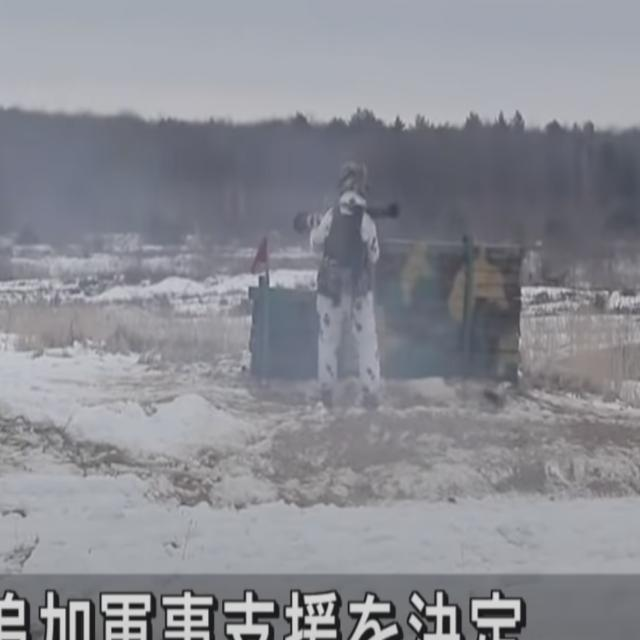bazooka: (283, 195, 413, 250)
